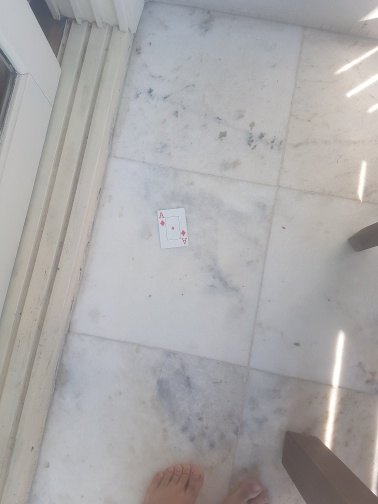ace: (158, 208, 189, 248)
